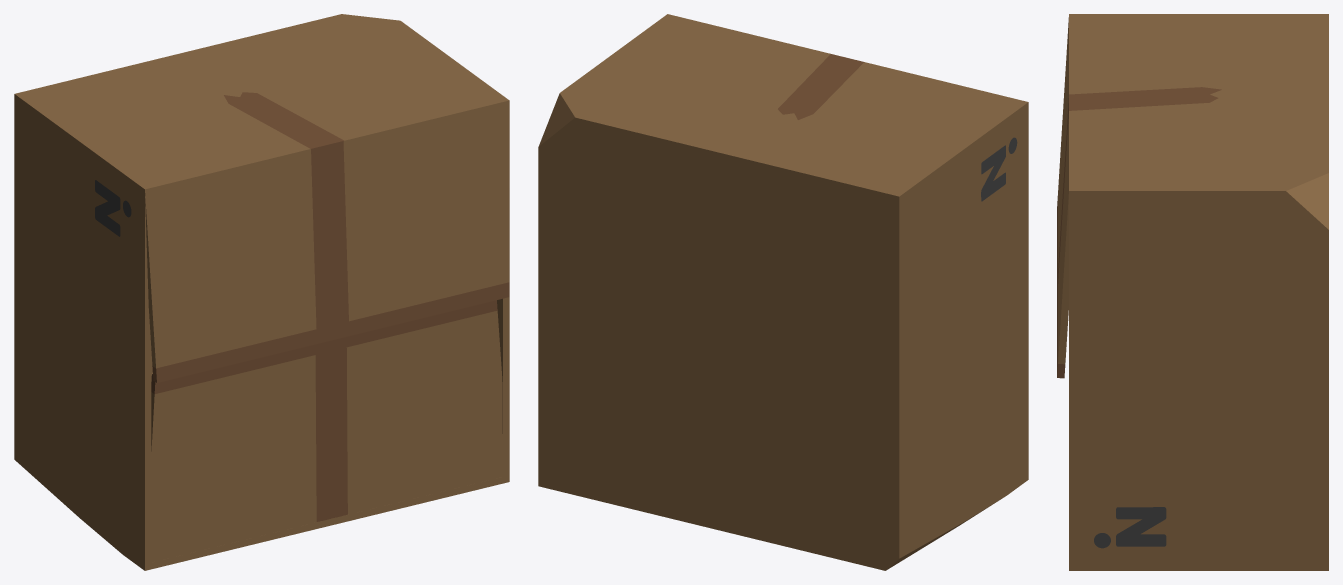
File: box_cardboard.glb
3 renders of one model, left to right at view 1: azimuth 30°, elevation 25°; view 2: azimuth 150°, elevation 25°; view 3: azimuth 270°, elevation 25°, orthographic.
Parts seen in each view (by area): view 1: Box_Cardboard; view 2: Box_Cardboard; view 3: Box_Cardboard.
Boxes of the visible parts, bbox=[...] form: Box_Cardboard: bbox=[14, 14, 509, 570]; Box_Cardboard: bbox=[538, 14, 1028, 570]; Box_Cardboard: bbox=[1057, 14, 1328, 570].
Bounding box in the file's own units: 1.14 × 1.14 × 0.737.
